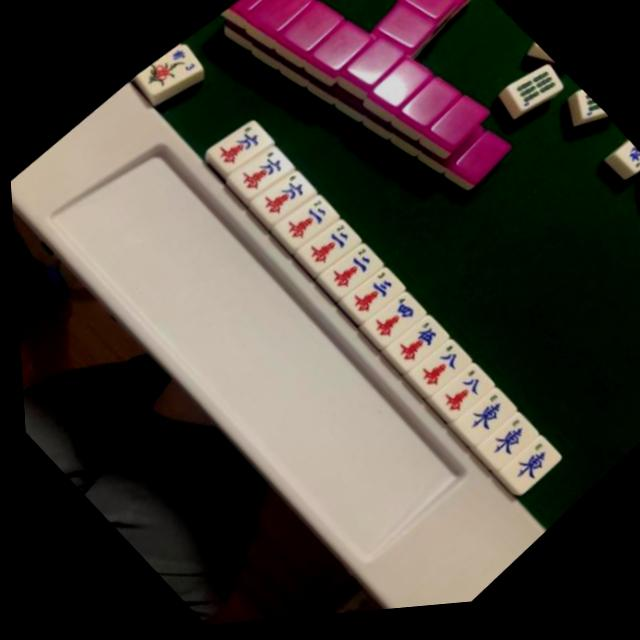bf3: (131, 36, 202, 106)
hwe: (469, 418, 531, 479), (493, 442, 554, 501), (449, 394, 506, 451)
sc2: (270, 191, 336, 255), (295, 220, 357, 280), (317, 244, 377, 304)
sc3: (336, 268, 398, 330)
sc4: (358, 292, 420, 353)
sc5: (379, 315, 442, 379)
sc6: (246, 167, 313, 231), (206, 118, 268, 179), (227, 142, 289, 203)
sc8: (402, 341, 465, 404), (424, 367, 487, 430)
